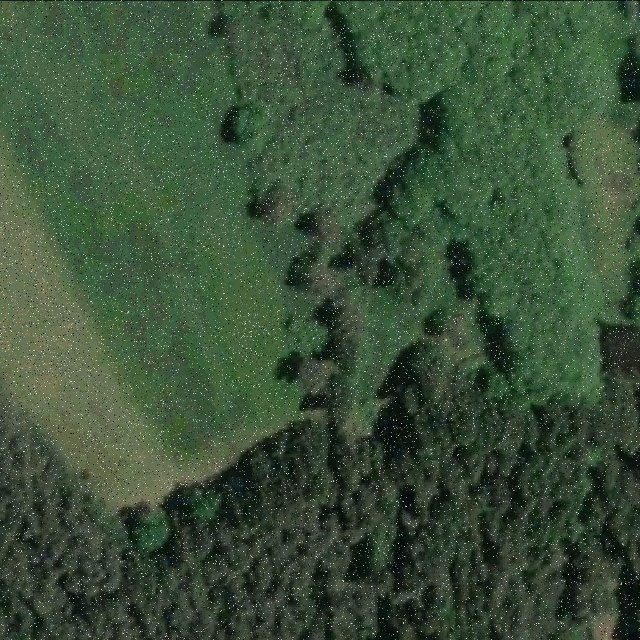vegetation: (0, 0, 640, 640)
